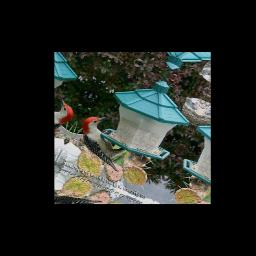Woodpecker: (68, 109, 141, 172)
